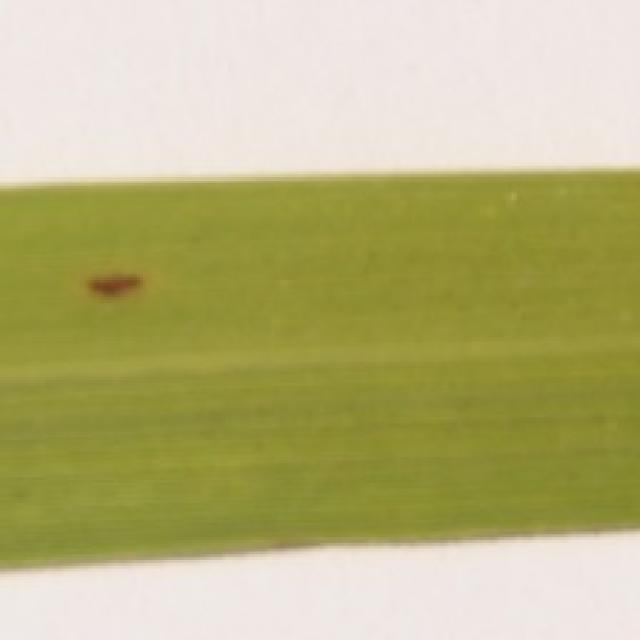Rice___Brown_Spot: (0, 171, 637, 575)
